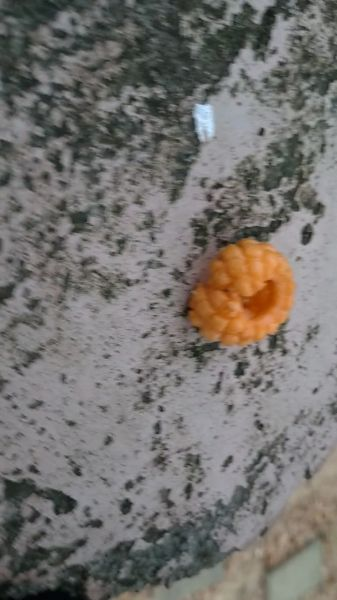eggs: (184, 234, 302, 347)
